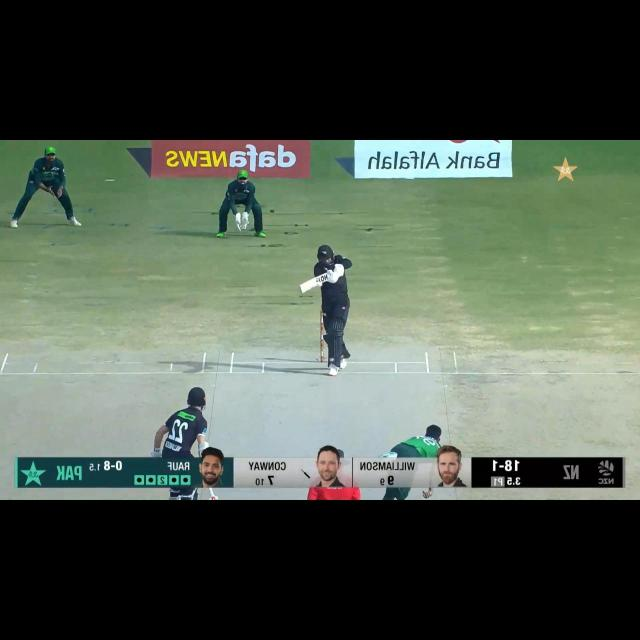bat: (296, 271, 332, 296)
toe: (298, 283, 305, 295)
